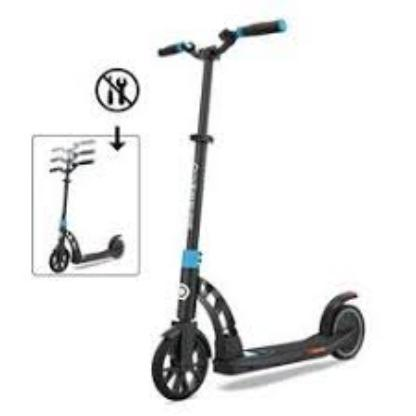bike: (150, 17, 366, 401), (47, 141, 125, 273)
